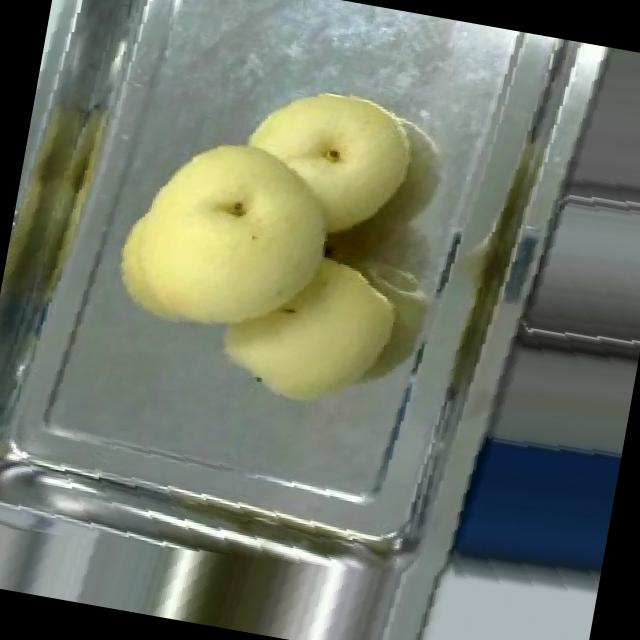Fruit: (90, 104, 362, 362), (196, 226, 417, 429), (217, 63, 438, 255)
